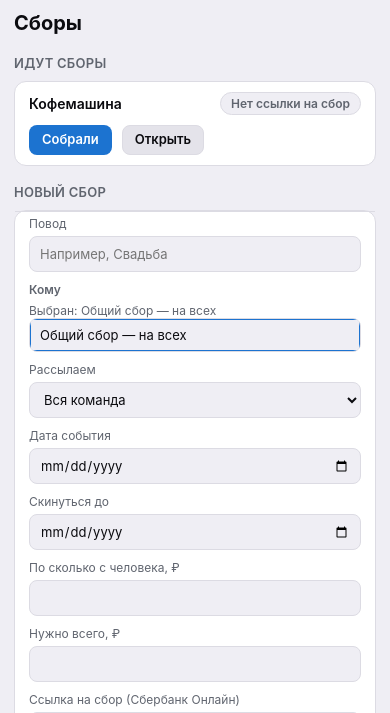
блокер рассылки не прячет кнопку (консоль) › без блокера кнопка живая и взводится
Click the button "Открыть". click: [163, 140]
box: [122, 125, 204, 155]
(page scrolled)
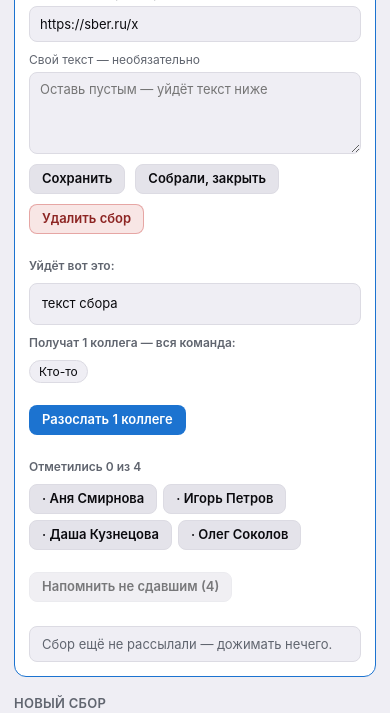
Expected: the button "Разослать 1 коллеге" is enabled
Click the button "Разослать 1 коллеге". click: [107, 420]
box: [29, 404, 186, 434]
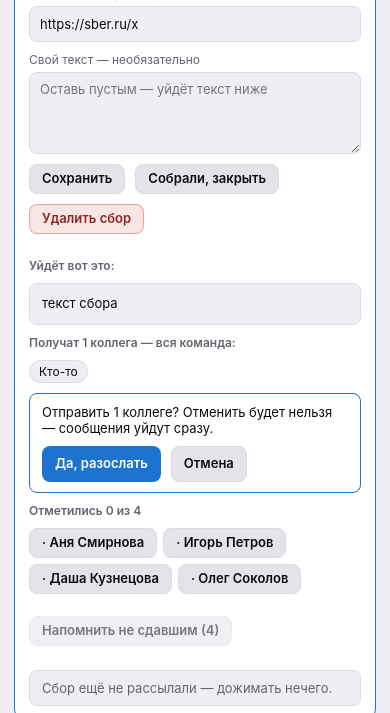
Expected: the text "Да, разослать" is shown, [42, 446, 161, 482]
